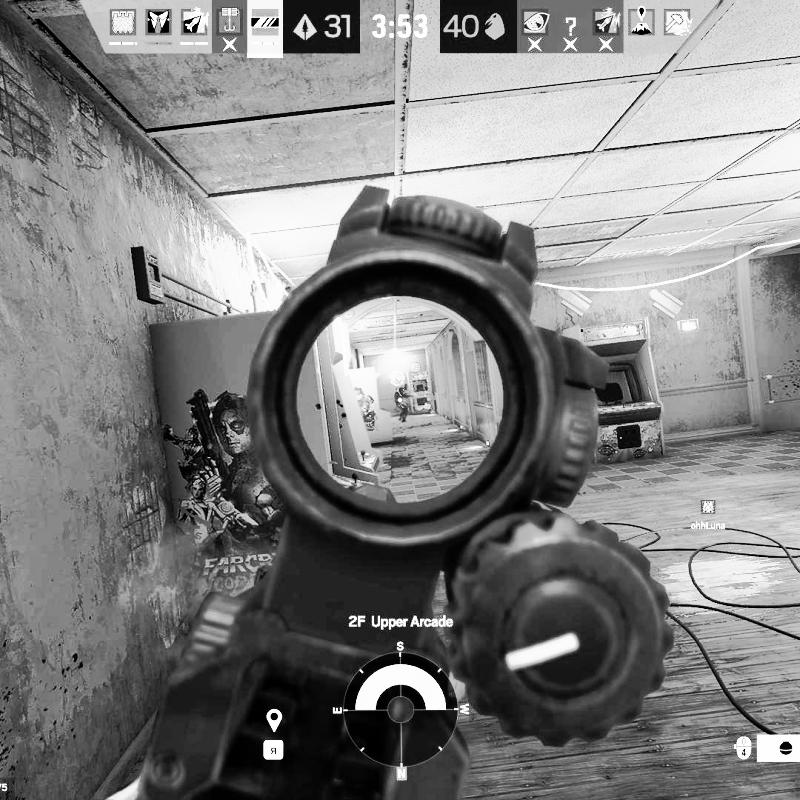Character: (394, 383, 415, 423)
Friend_label: (690, 498, 727, 530)
Head: (403, 382, 408, 390)
